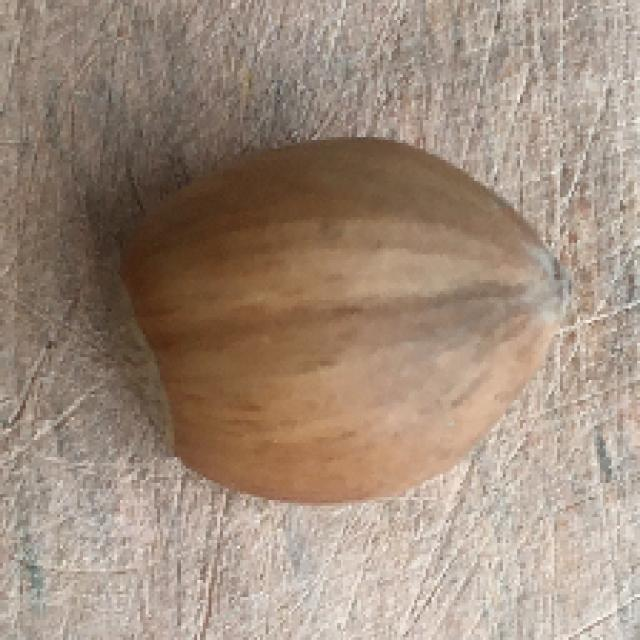damagedHazelnut: (94, 131, 574, 512)
